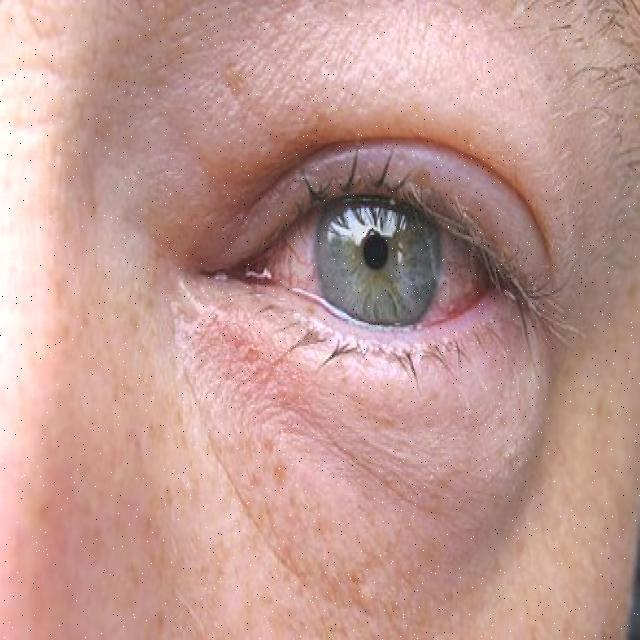Conjunctivitis: (210, 207, 515, 326)
